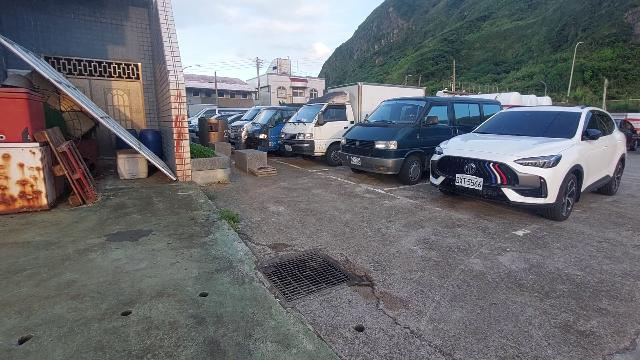pollute: (1, 69, 105, 216), (126, 128, 164, 162), (113, 147, 152, 180)
